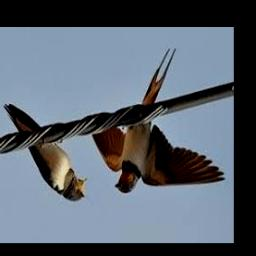Swallow: (91, 49, 225, 193), (2, 104, 87, 200)
